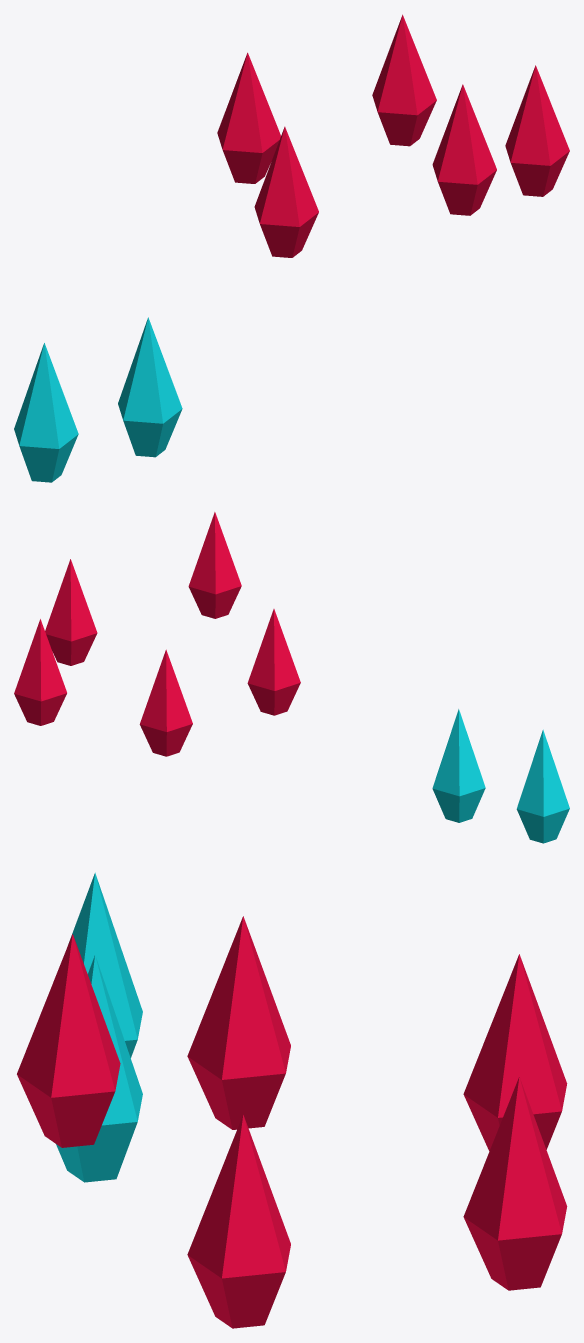
The model's file is king_fire.glb.
3 renders of one model, top to bottom at view 1: azimuth 30°, elevation 25°; view 2: azimuth 150°, elevation 25°; view 3: azimuth 270°, elevation 25°, orthographic. The views are drawn at different scales.
Visible parts, largest first — view 1: KingFire; view 2: KingFire; view 3: KingFire.
Part boxes in pixels (<box>): KingFire: <box>14,14,569,482</box>; KingFire: <box>14,512,569,843</box>; KingFire: <box>17,872,567,1328</box>.
Size of the model in its own units: 1.49 by 0.71 by 0.7357.
